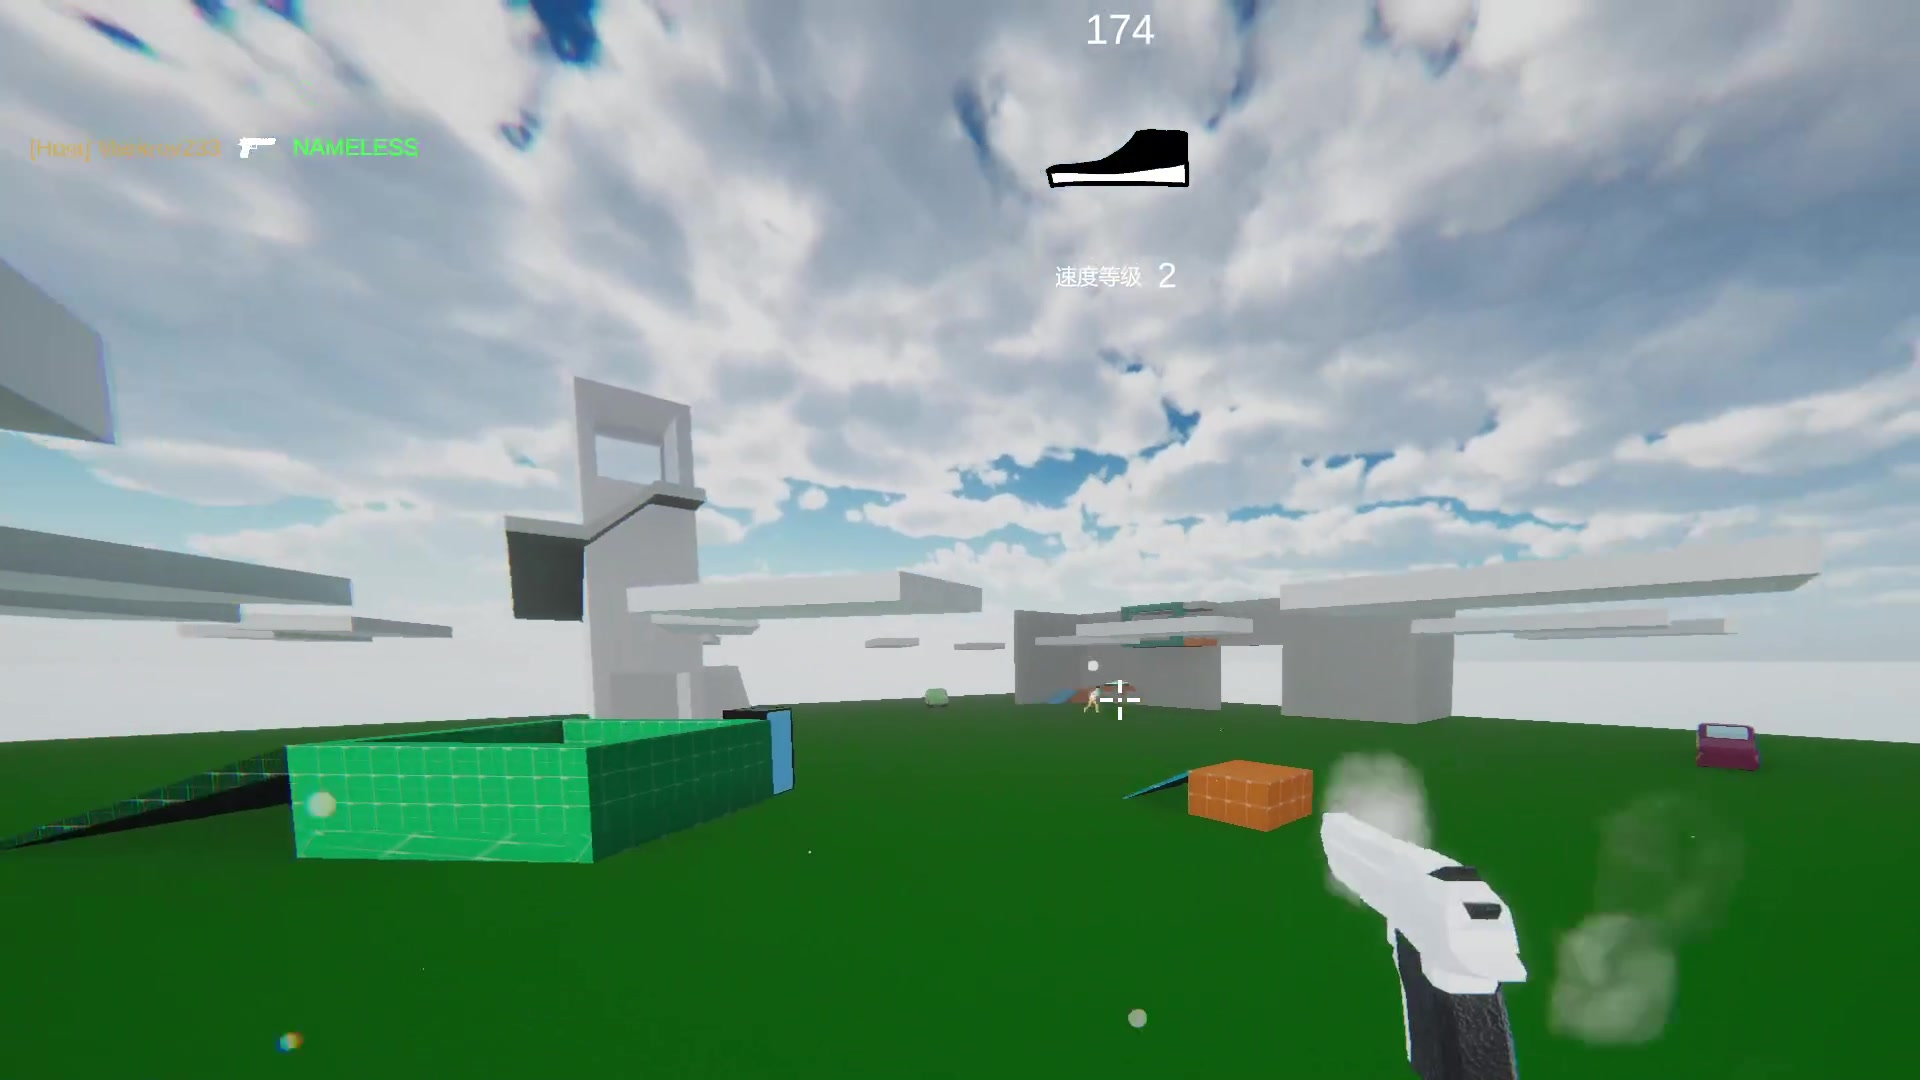human: (1091, 685, 1104, 718)
